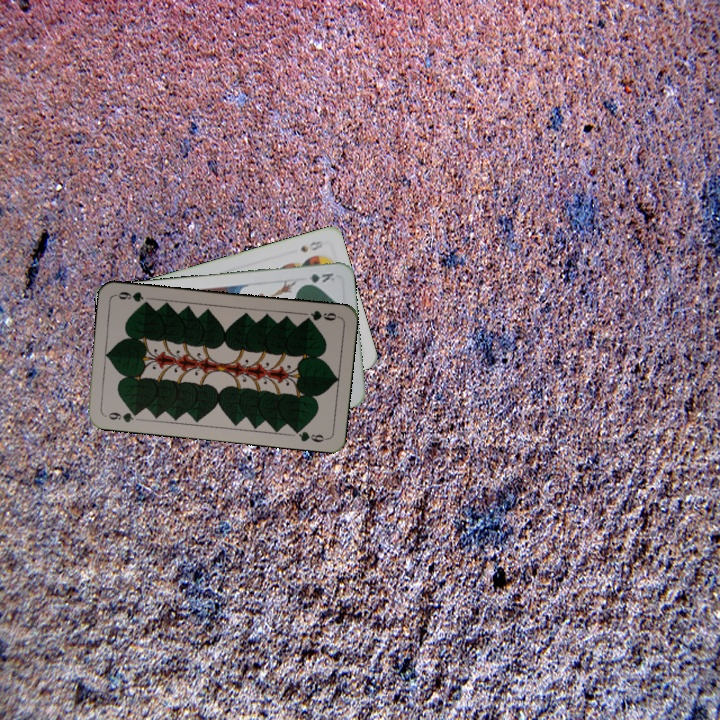G9: (300, 306, 341, 324), (101, 407, 142, 425)
GK: (298, 269, 337, 288)
S8: (296, 237, 326, 255)
